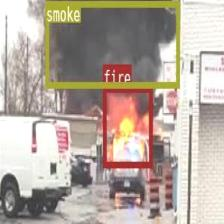fire: (102, 85, 152, 167)
smoke: (45, 0, 179, 87)
